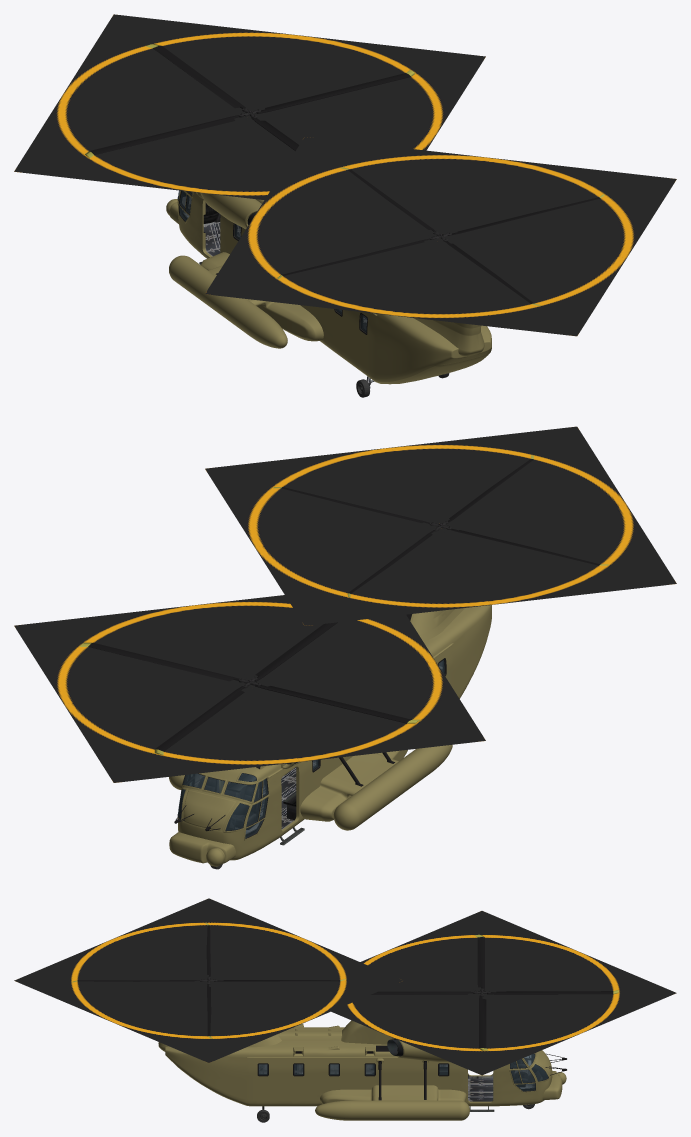
The model's file is cargobob.glb.
3 renders of one model, top to bottom at view 1: azimuth 30°, elevation 25°; view 2: azimuth 150°, elevation 25°; view 3: azimuth 270°, elevation 25°, orthographic. The views are drawn at different scales.
Visible parts, largest first — view 1: rotor_rear_fast, rotor_main_fast, bodyshell, rotor_main_slow, rotor_rear_slow, chassis, door_dside_r; view 2: rotor_rear_fast, rotor_main_fast, bodyshell, rotor_main_slow, chassis, rotor_rear_slow, windscreen; view 3: rotor_rear_fast, rotor_main_fast, bodyshell, rotor_main_slow, chassis, rotor_rear_slow, window_rf.
Part boxes in pixels (x1,y1,x2,y2): rotor_rear_fast: [205, 137, 676, 336]; rotor_main_fast: [14, 14, 485, 199]; bodyshell: [166, 190, 491, 382]; rotor_main_slow: [85, 44, 415, 157]; rotor_rear_slow: [277, 167, 604, 305]; chassis: [178, 192, 366, 329]; door_dside_r: [377, 352, 490, 384]; rotor_rear_fast: [205, 426, 676, 625]; rotor_main_fast: [14, 595, 485, 782]; bodyshell: [169, 605, 491, 866]; rotor_main_slow: [79, 622, 420, 755]; chassis: [178, 760, 315, 845]; rotor_rear_slow: [273, 455, 608, 597]; windscreen: [178, 773, 256, 830]; rotor_rear_fast: [14, 898, 403, 1062]; rotor_main_fast: [331, 911, 676, 1075]; bodyshell: [158, 1020, 566, 1120]; rotor_main_slow: [371, 934, 618, 1050]; chassis: [259, 1054, 548, 1111]; rotor_rear_slow: [72, 923, 345, 1038]; window_rf: [510, 1059, 535, 1091].
Bounding box in the file's own units: 13.93 × 5.1 × 23.69.
15 materials, 5 textured.
